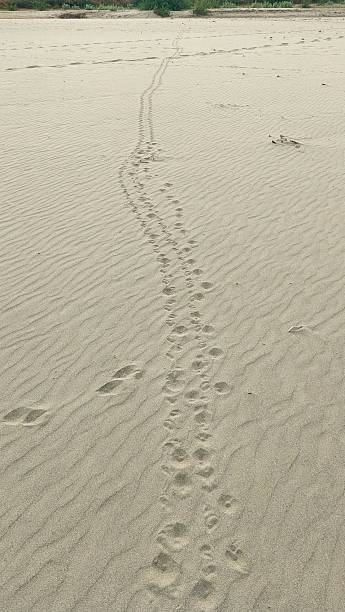animal_footprint: (0, 0, 344, 611), (120, 39, 218, 611), (145, 551, 180, 596), (97, 364, 142, 394), (2, 403, 48, 425), (157, 521, 188, 551), (191, 577, 216, 612), (225, 543, 249, 575), (218, 493, 239, 514), (204, 506, 218, 529), (172, 448, 187, 462), (214, 381, 230, 394), (197, 464, 213, 477), (208, 347, 223, 358), (202, 325, 215, 335), (185, 390, 197, 398)
